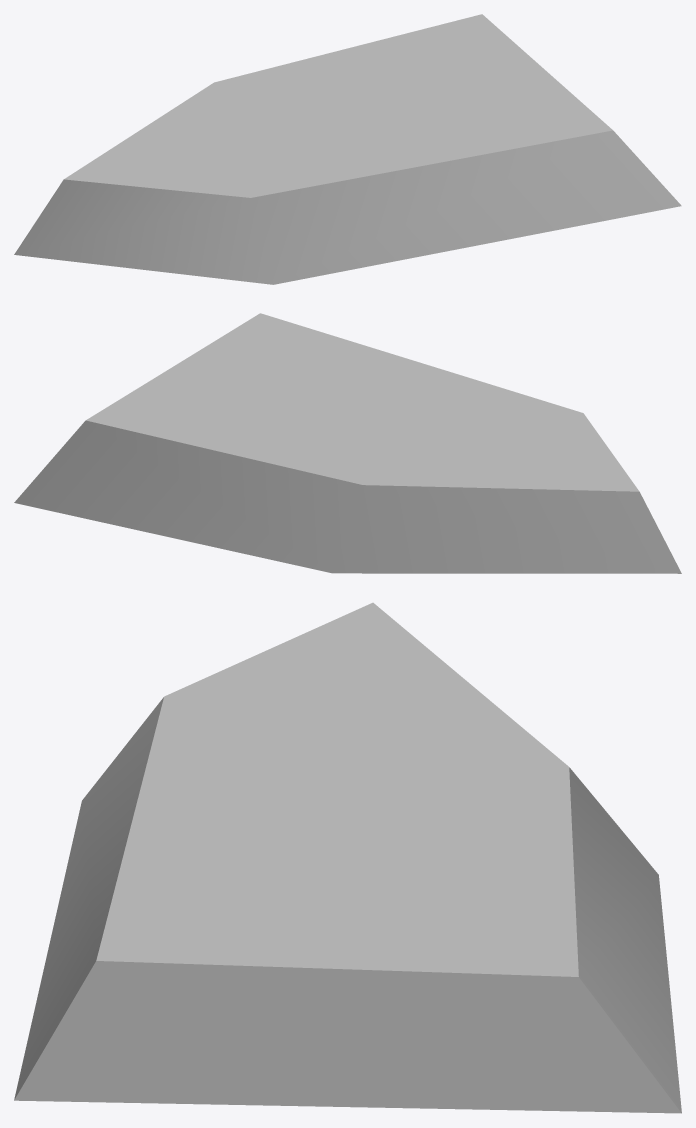
Rendered from stone_04.FBX.
3 views of the same model, one above another, from view 1: azimuth 30°, elevation 25°; view 2: azimuth 150°, elevation 25°; view 3: azimuth 270°, elevation 25° (orthographic). The views are drawn at different scales.
Visible parts, largest first — view 1: stone_04; view 2: stone_04; view 3: stone_04.
Part boxes in pixels (<box>): stone_04: <box>14,14,681,284</box>; stone_04: <box>14,313,681,573</box>; stone_04: <box>14,602,681,1113</box>.
Bounding box in the file's own units: 0.5143 × 0.0582 × 0.3301.
Materials: 1 (1 with a texture image).
